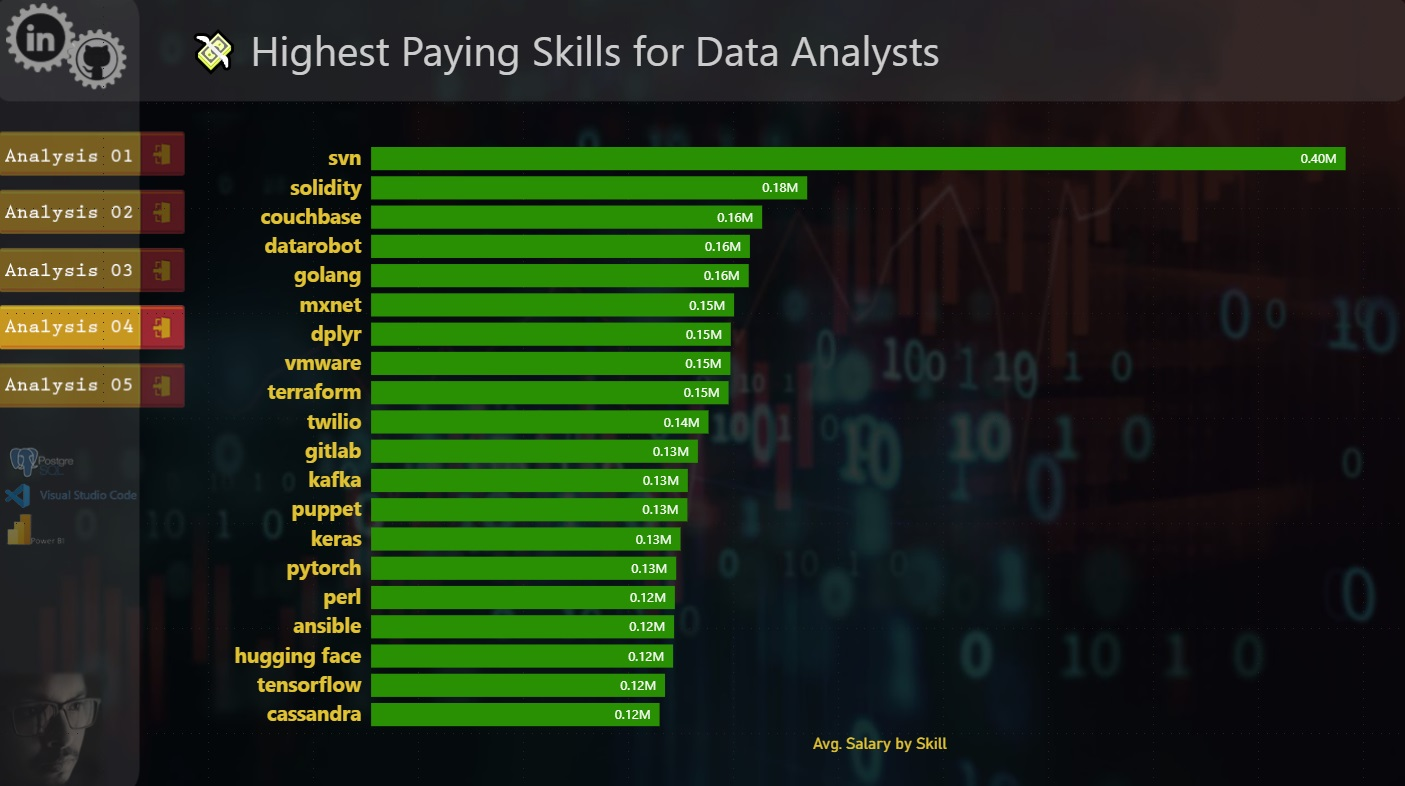

Layout of this report page (visuals, bound fields, positions):
{"tool":"powerbi","page":{"name":"Q4 - Highest Paying Skills for Data Analysts","canvas":[1280,720],"ordinal":3},"visuals":[{"type":"textbox","box":[168,16,816,80],"z":0},{"type":"clusteredBarChart","fields":{"Category":["4_top_paying_skills (2).skill_name"],"Y":["Avg(4_top_paying_skills (2).avg_salary)"]},"box":[208,112,1056,584],"z":1000},{"type":"actionButton","box":[0,120,168,40],"z":1001},{"type":"actionButton","box":[0,176,168,40],"z":1002},{"type":"actionButton","box":[0,224,168,40],"z":1003},{"type":"actionButton","box":[0,280,168,40],"z":1004},{"type":"actionButton","box":[0,336,168,40],"z":1005},{"type":"actionButton","box":[16,16,48,40],"z":1006},{"type":"actionButton","box":[72,40,40,32],"z":1007}]}

Visuals, with their boxes on the page's 1280x720 design canvas (x1, y1, x2, y2). These are canvas units, not pixel positions in the 1405x786 screenshot, which may show the page scaled, cropped or inside an application window:
textbox: [x1=168, y1=16, x2=984, y2=96]
clusteredBarChart - 4_top_paying_skills (2).skill_name x Avg(4_top_paying_skills (2).avg_salary): [x1=208, y1=112, x2=1264, y2=696]
actionButton: [x1=0, y1=120, x2=168, y2=160]
actionButton: [x1=0, y1=176, x2=168, y2=216]
actionButton: [x1=0, y1=224, x2=168, y2=264]
actionButton: [x1=0, y1=280, x2=168, y2=320]
actionButton: [x1=0, y1=336, x2=168, y2=376]
actionButton: [x1=16, y1=16, x2=64, y2=56]
actionButton: [x1=72, y1=40, x2=112, y2=72]
